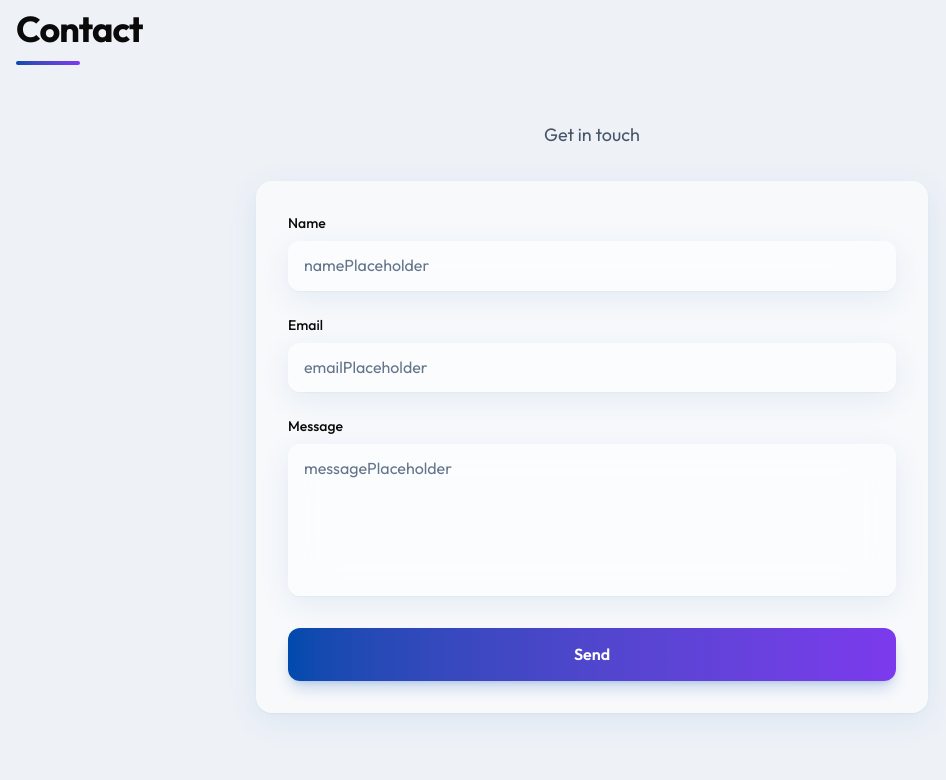
Contact › error message displays after failed submit
// Fill out form
In the field labelled "Name": (592, 266) [288,241,896,291], type "John"
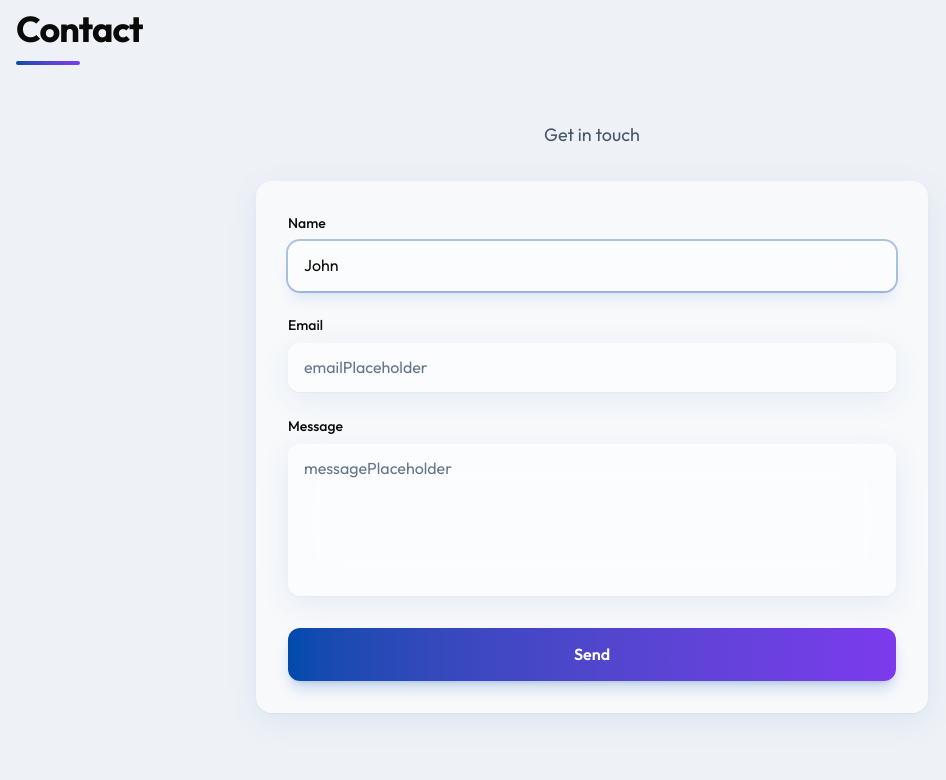
In the field labelled "Email": (592, 367) [288,343,896,392], type "john@test.com"
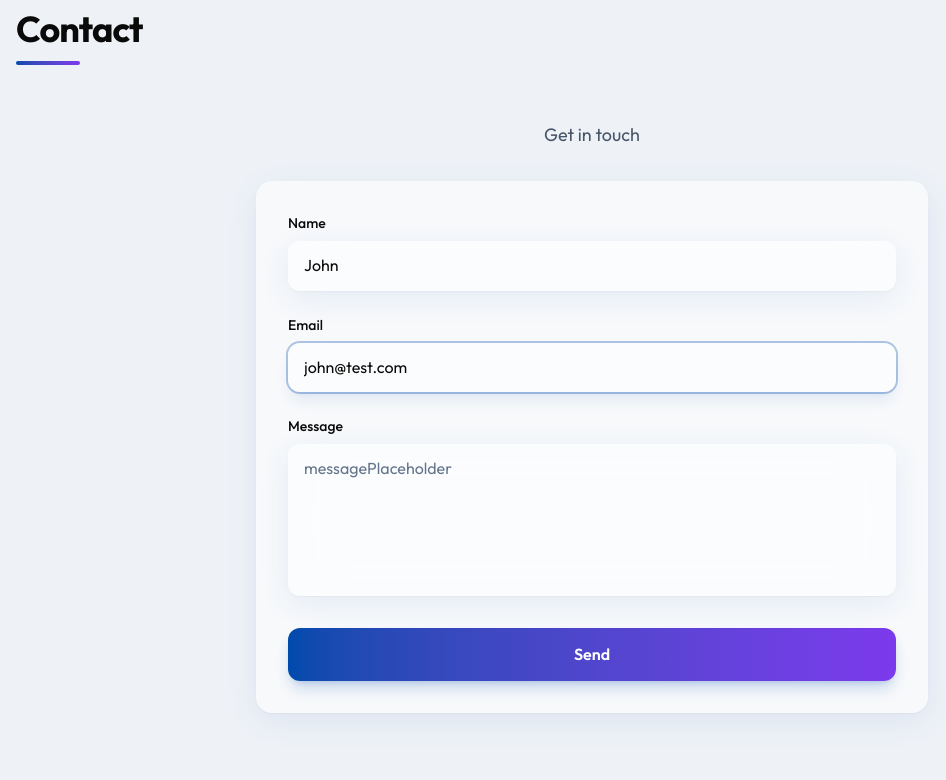
In the text box labelled "Message": (592, 520) [288,444,896,596], type "Hello"
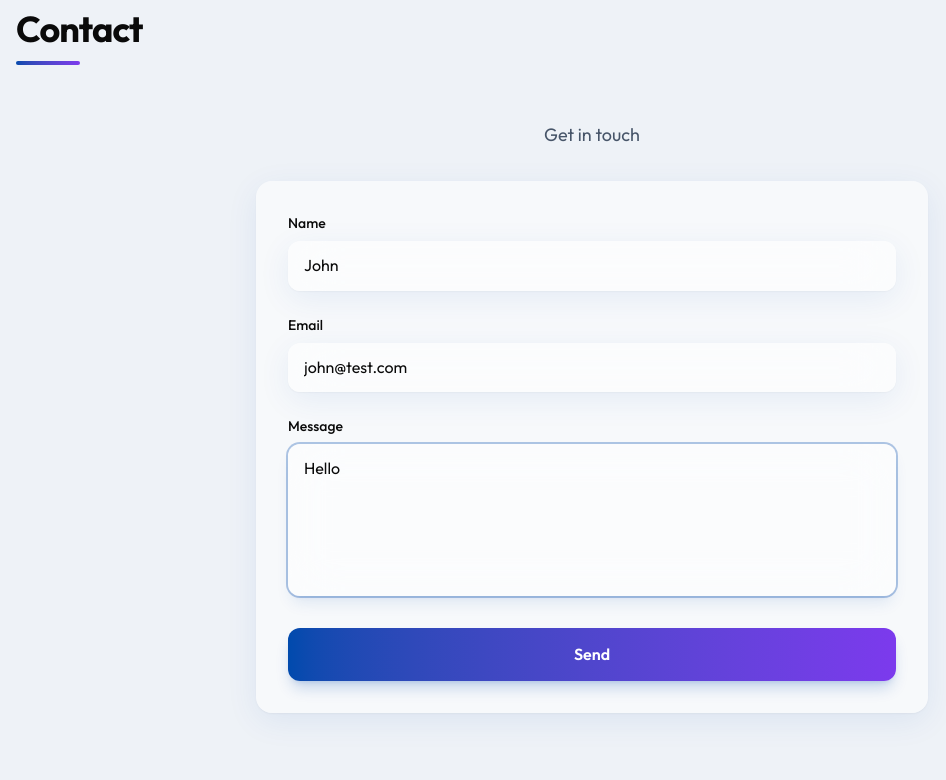
// Submit form
Submit the form from the button "Send", box [288,628,896,681]
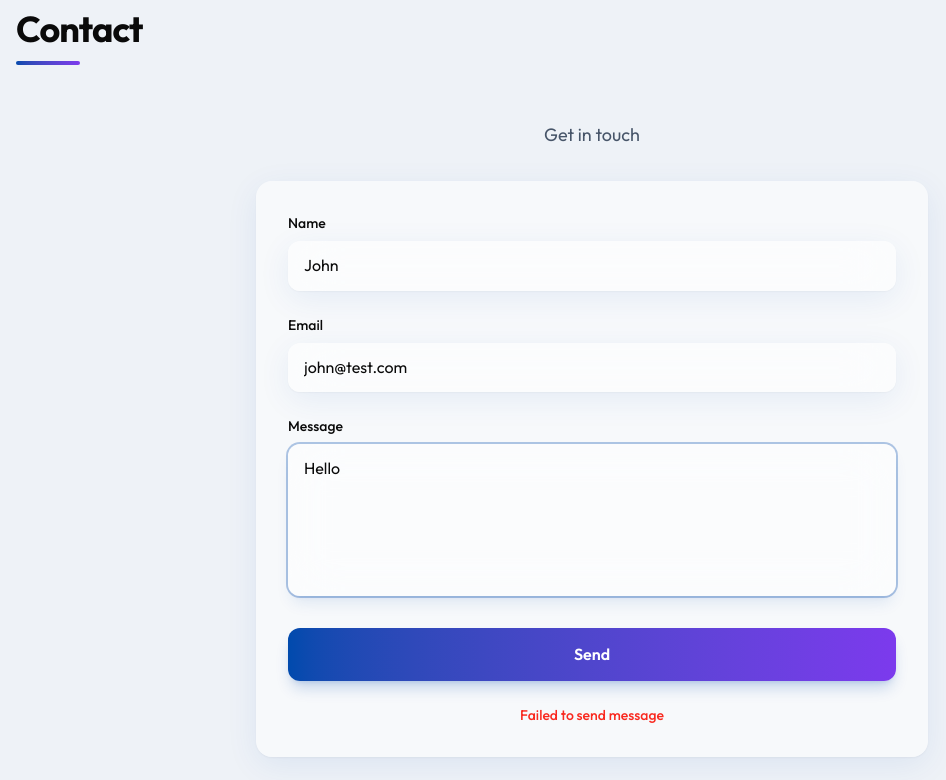
Result: the text "Failed to send message" is shown at [520,706,664,724]
